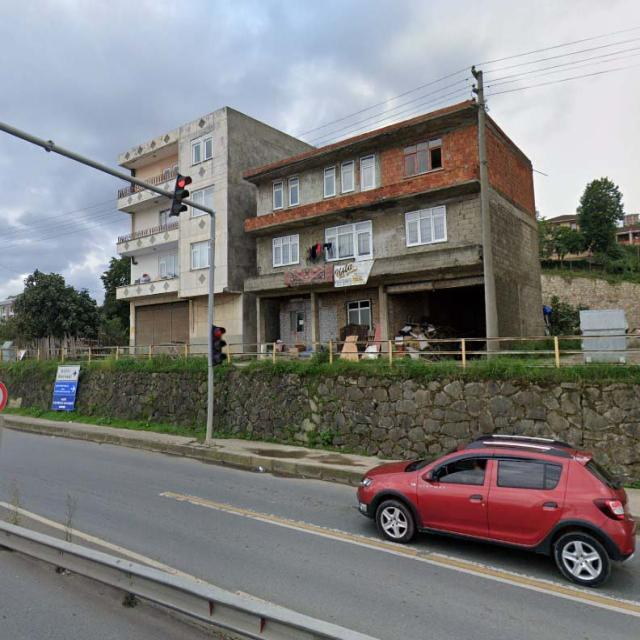kirmizi: (208, 326, 226, 364), (175, 172, 185, 216)
